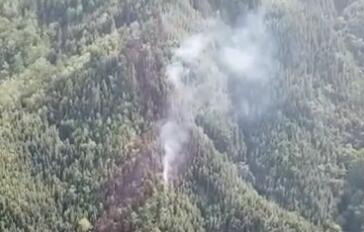smoke: (160, 4, 275, 192)
